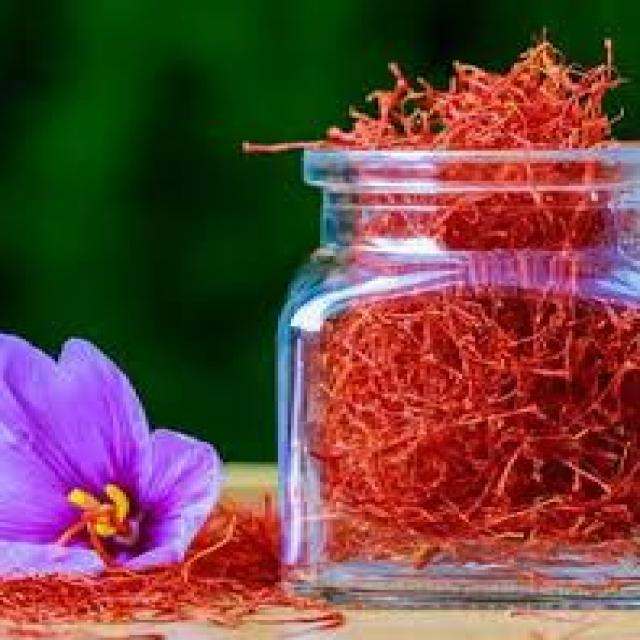Flower: (0, 293, 229, 579)
stigma: (56, 469, 131, 569)
